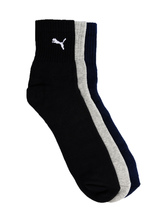sock: (28, 17, 146, 203)
